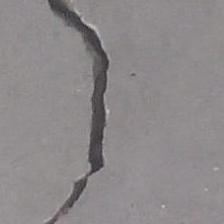Crack: (24, 0, 170, 221)
